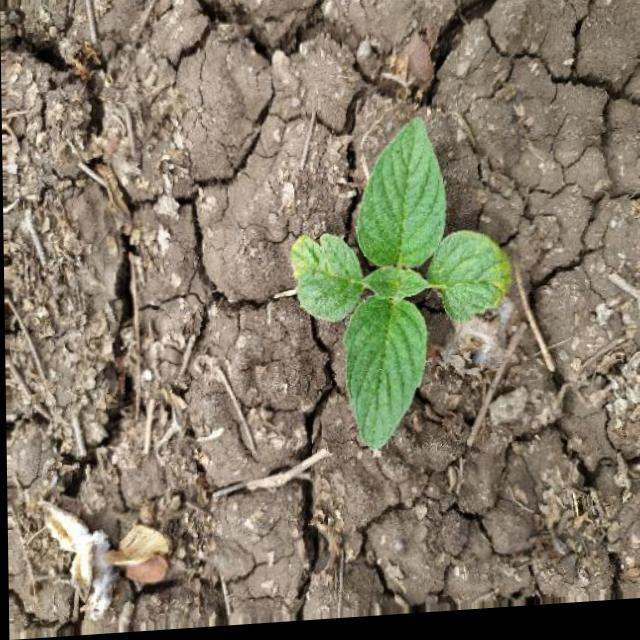crop: (282, 110, 522, 480)
